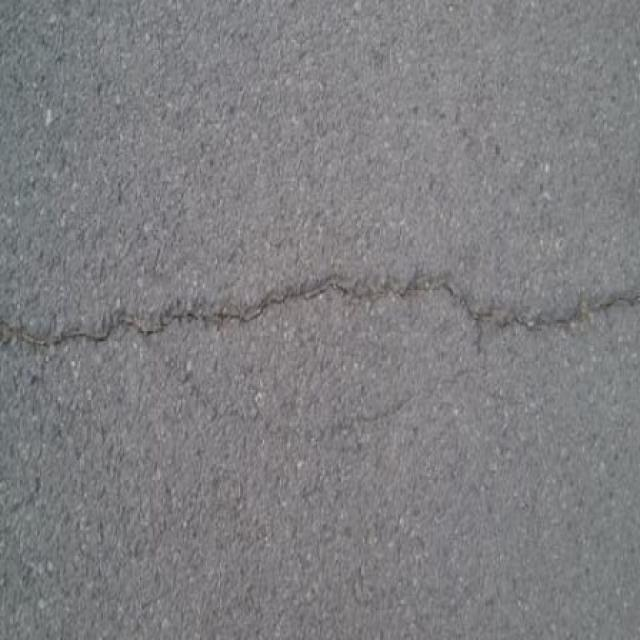Diagonal Crack: (9, 260, 637, 362), (146, 347, 486, 446)
